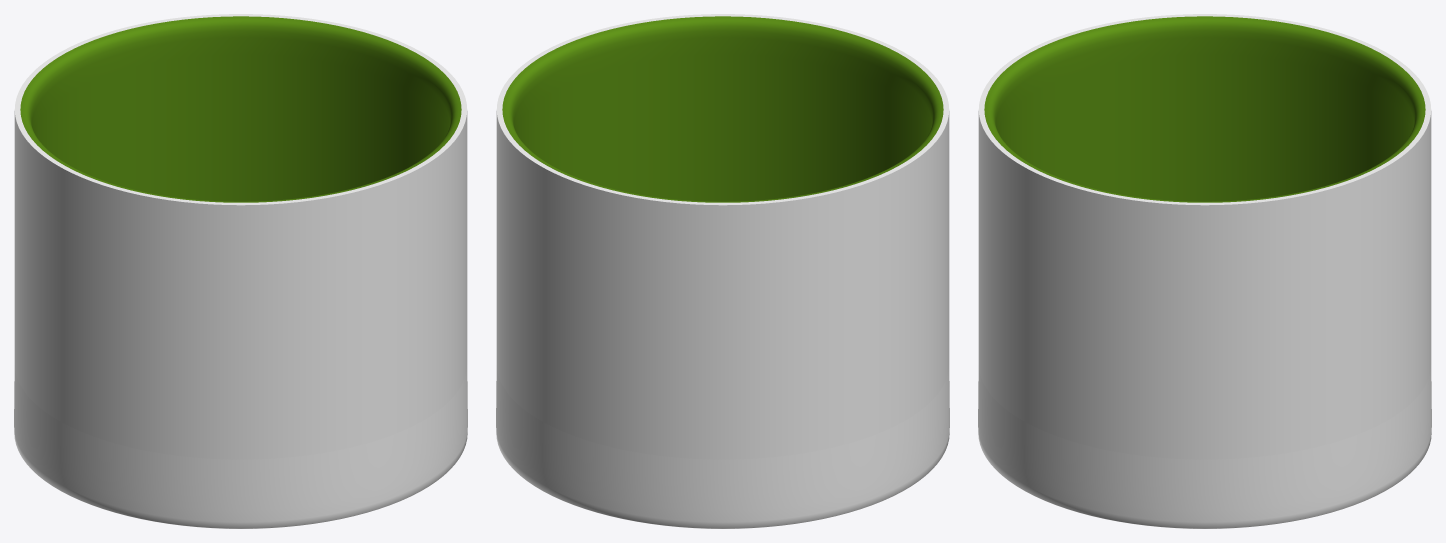
Rendered from 陶瓷杯.FBX.
3 views of the same model, side by side, from view 1: azimuth 30°, elevation 25°; view 2: azimuth 150°, elevation 25°; view 3: azimuth 270°, elevation 25° (orthographic).
Visible parts, largest first — view 1: Obj3d66-448716-9-129, Obj3d66-448716-8-303; view 2: Obj3d66-448716-9-129, Obj3d66-448716-8-303; view 3: Obj3d66-448716-9-129, Obj3d66-448716-8-303.
Part boxes in pixels (<box>): Obj3d66-448716-9-129: <box>14,14,467,528</box>; Obj3d66-448716-8-303: <box>20,16,461,202</box>; Obj3d66-448716-9-129: <box>496,14,949,528</box>; Obj3d66-448716-8-303: <box>502,16,943,202</box>; Obj3d66-448716-9-129: <box>978,14,1431,528</box>; Obj3d66-448716-8-303: <box>984,16,1425,202</box>.
Size of the model in its own units: 26.56 by 20.91 by 26.56.
